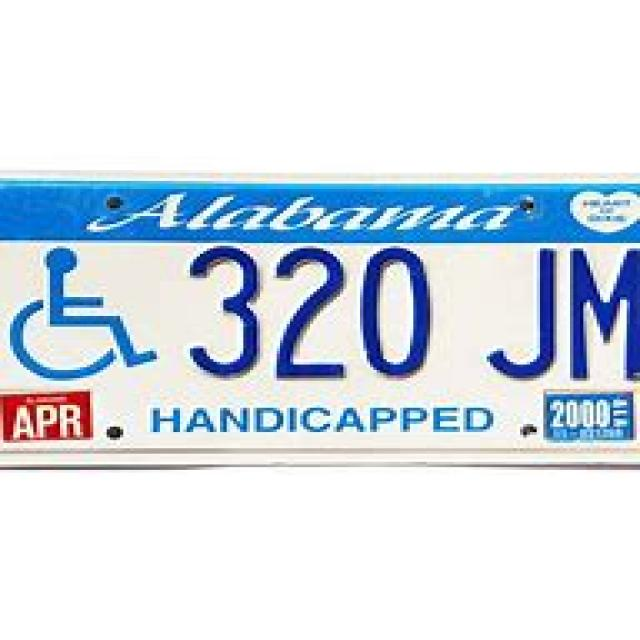car-handicap-placard: (6, 247, 166, 386)
